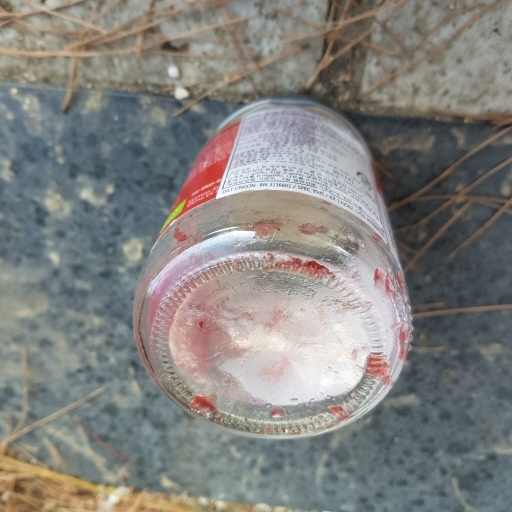Glass_5: (122, 97, 417, 440)
